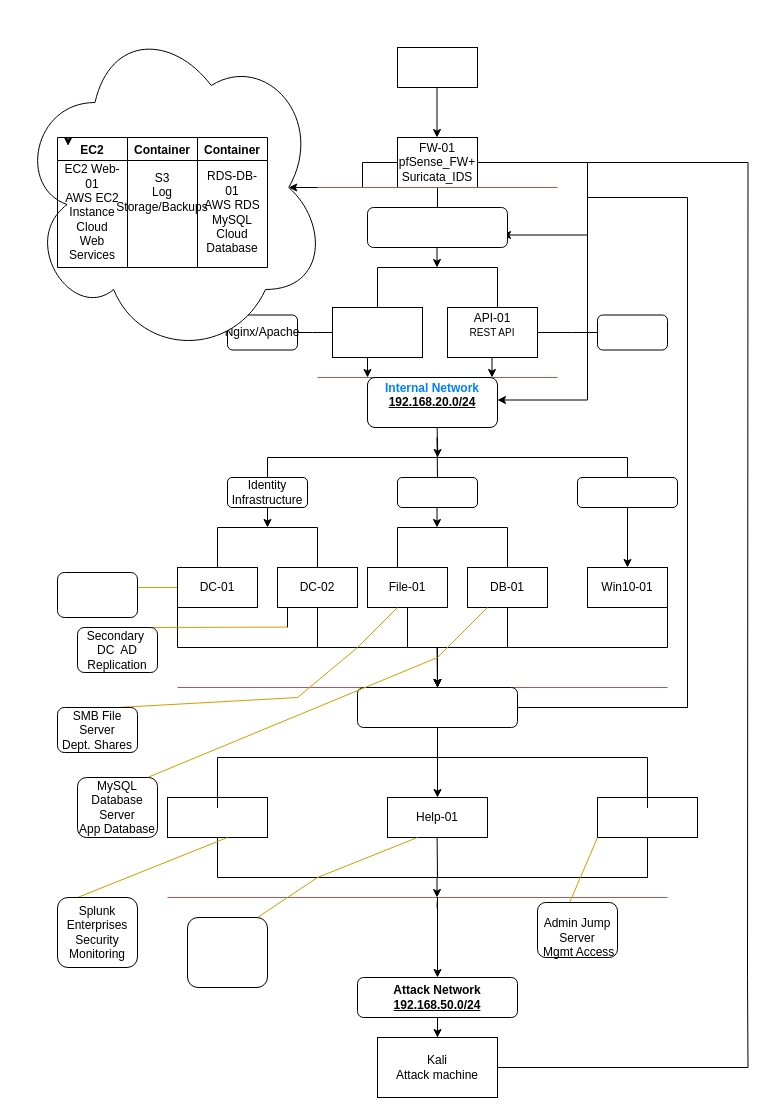
Image size: 767x1115. Some labels were removed from this diagram. The centre of each missing label's shape, as x and y in pixels:
"Clients 192.168.30.0/24" belongs at point (627, 492).
"Data Infrastructure" belongs at point (437, 492).
"DMZ Network 192.168.10.0/24" belongs at point (437, 227).
"Internet" belongs at point (437, 67).
"MGMT-01" belongs at point (647, 817).
"osTicket Help Desk System" belongs at point (227, 952).
"Primary Domain DC AD/DNS" belongs at point (97, 595).
"Python Flask" belongs at point (632, 332).
"SOC/Management 192.168.40.0/24" belongs at point (437, 707).
"Splunk-01" belongs at point (217, 817).
"Web-01 Fake Business Website" belongs at point (377, 332).
